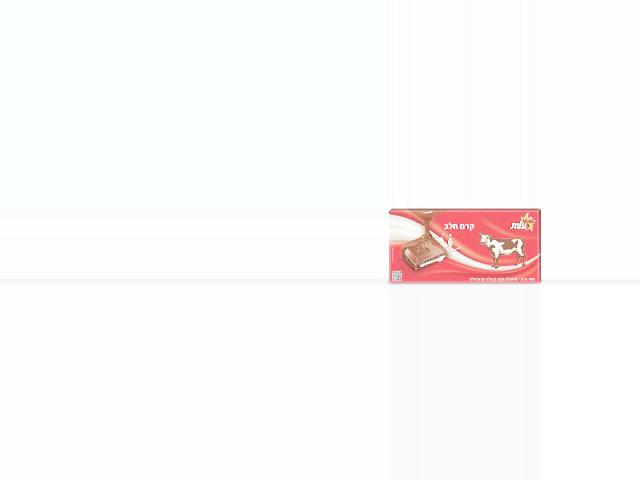chocolate: (389, 208, 543, 284)
